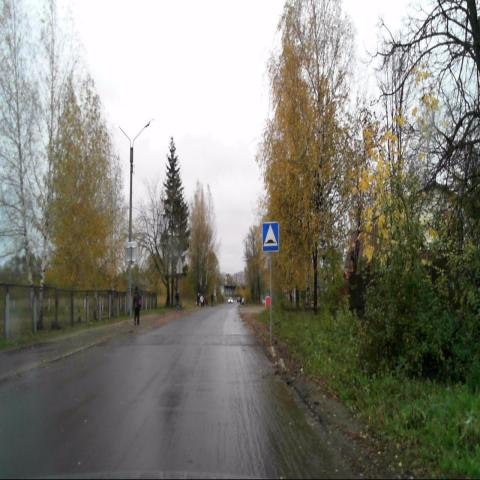5_20: (262, 223, 279, 250)
